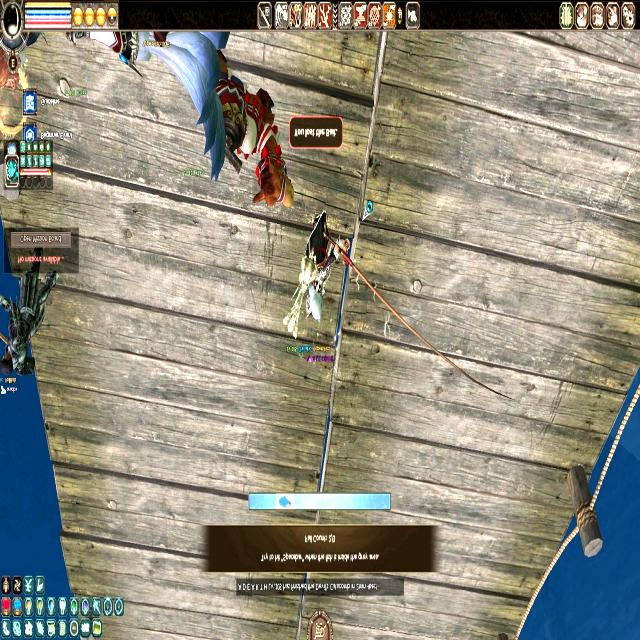fishes: (277, 493, 292, 508)
